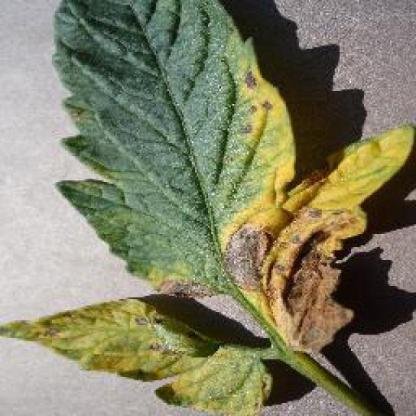Tomato_Blight: (3, 0, 415, 412)
